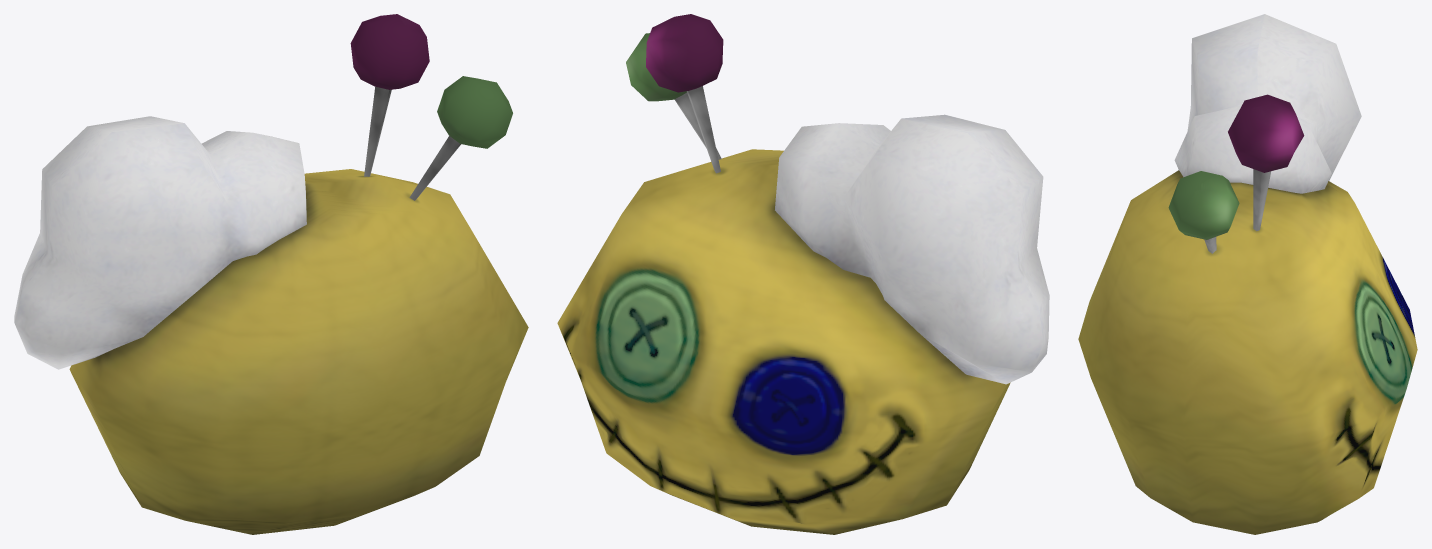
File: voodoo-programmer_head.glb
The picture shows the model from 3 angles, left to right: view 1: azimuth 30°, elevation 25°; view 2: azimuth 150°, elevation 25°; view 3: azimuth 270°, elevation 25°; orthographic projection. The views are drawn at different scales.
Visible parts, largest first — view 1: voodoo; view 2: voodoo; view 3: voodoo.
Boxes of the visible parts, <box> form: voodoo: <box>14,14,528,534</box>; voodoo: <box>557,14,1049,534</box>; voodoo: <box>1078,14,1417,534</box>.
Bounding box in the file's own units: 2.45 × 2.29 × 1.58.
Materials: 1 (1 with a texture image).
